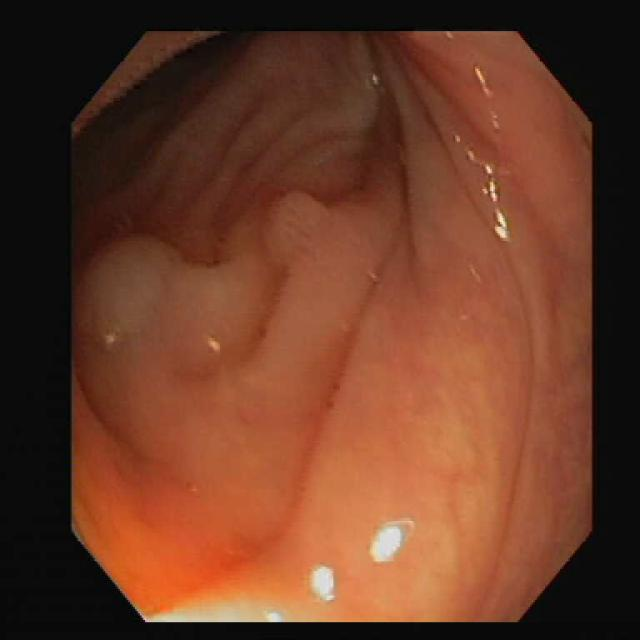tumor: (85, 220, 285, 360), (270, 193, 328, 258)
